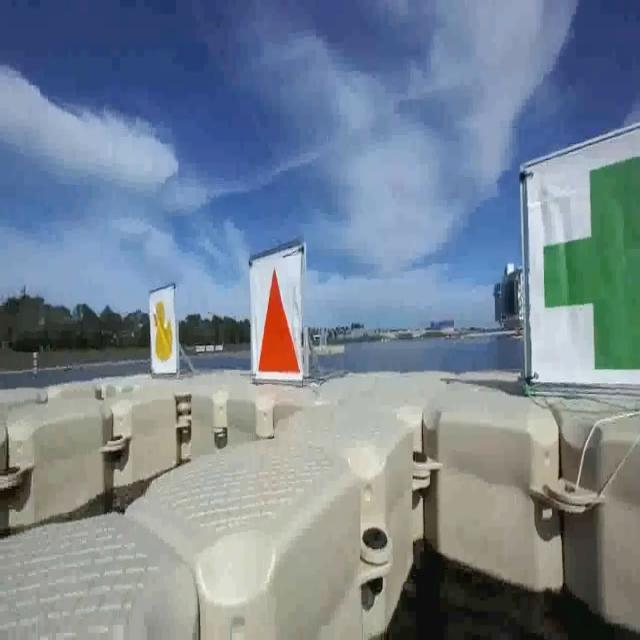blue-cross: (526, 122, 637, 390)
yellow-duck: (148, 288, 180, 378)
